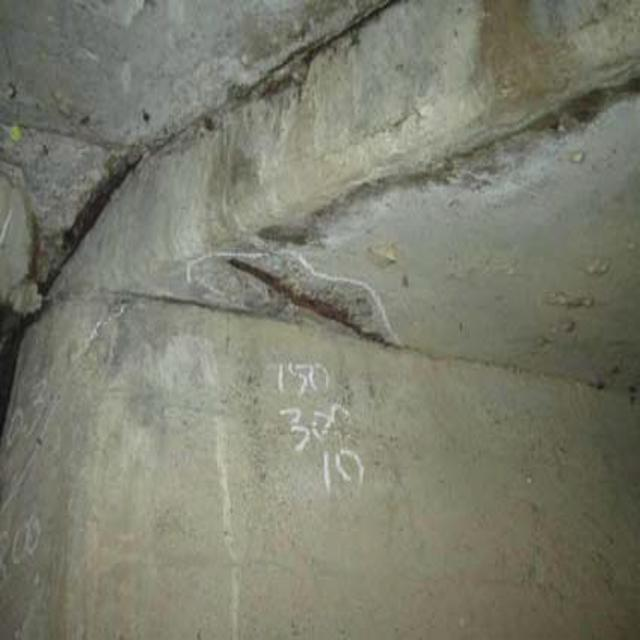spalling: (194, 226, 400, 384)
